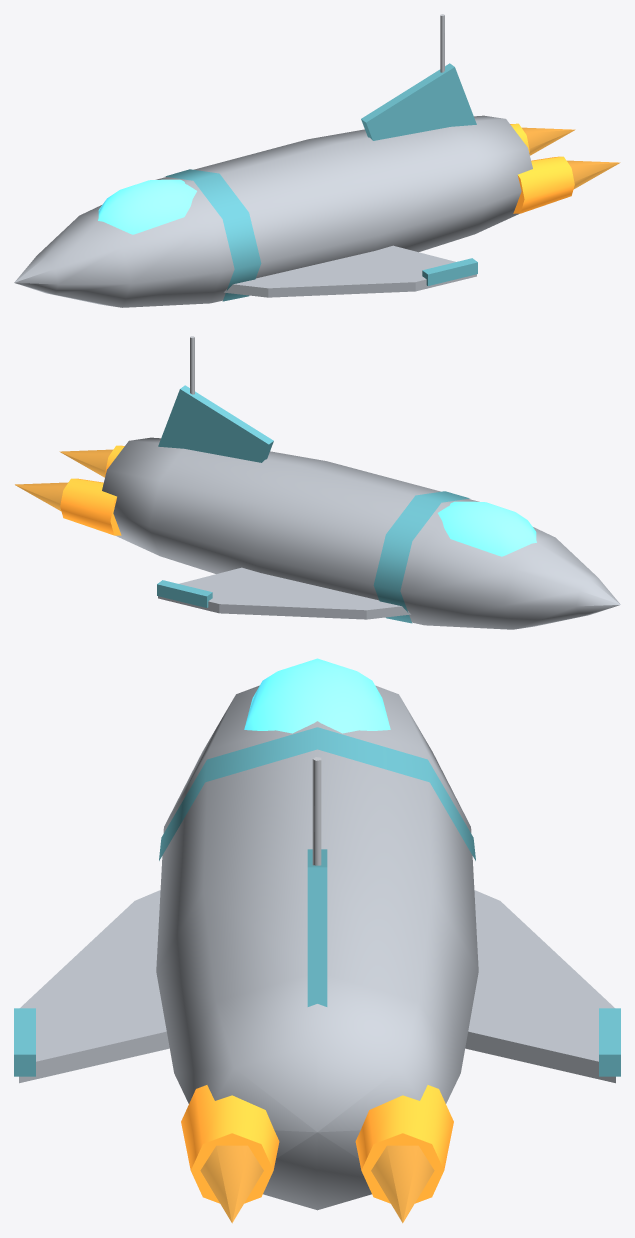
Rendered from nave-procedural-reparada.glb.
3 renders of one model, top to bottom at view 1: azimuth 30°, elevation 25°; view 2: azimuth 150°, elevation 25°; view 3: azimuth 270°, elevation 25°, orthographic. The views are drawn at different scales.
Parts seen in each view (by area): view 1: Casco, Ala_N, Aleta, Cabina, Franja, Tobera_S, PuntaAla_N, Llama_N, Llama_S; view 2: Casco, Ala_S, Aleta, Cabina, Franja, Tobera_N, PuntaAla_S, Llama_N, Llama_S; view 3: Casco, Ala_N, Ala_S, Cabina, Franja, Tobera_N, Tobera_S, Aleta, Llama_N, Llama_S, PuntaAla_N, PuntaAla_S (+1 smaller).
Part boxes in pixels (<box>): Casco: <box>14,115,532,307</box>; Ala_N: <box>224,245,476,297</box>; Aleta: <box>361,63,476,140</box>; Cabina: <box>98,179,196,234</box>; Franja: <box>165,169,261,301</box>; Tobera_S: <box>513,156,574,213</box>; PuntaAla_N: <box>422,258,477,285</box>; Llama_N: <box>522,127,575,155</box>; Llama_S: <box>567,160,620,189</box>; Casco: <box>102,437,620,629</box>; Ala_S: <box>158,567,410,619</box>; Aleta: <box>158,385,273,462</box>; Cabina: <box>438,501,536,556</box>; Franja: <box>373,491,469,623</box>; Tobera_N: <box>60,478,121,535</box>; PuntaAla_S: <box>157,580,212,607</box>; Llama_N: <box>15,482,68,511</box>; Llama_S: <box>59,449,112,477</box>; Casco: <box>156,685,478,1210</box>; Ala_N: <box>19,890,169,1083</box>; Ala_S: <box>465,890,615,1083</box>; Cabina: <box>244,658,390,733</box>; Franja: <box>159,727,475,860</box>; Tobera_N: <box>355,1085,453,1203</box>; Tobera_S: <box>181,1085,279,1203</box>; Aleta: <box>307,849,327,1006</box>; Llama_N: <box>371,1145,434,1223</box>; Llama_S: <box>200,1145,263,1223</box>; PuntaAla_N: <box>14,1008,35,1076</box>; PuntaAla_S: <box>599,1008,620,1076</box>.
Bounding box in the file's own units: 10.5 × 3.83 × 4.98.
